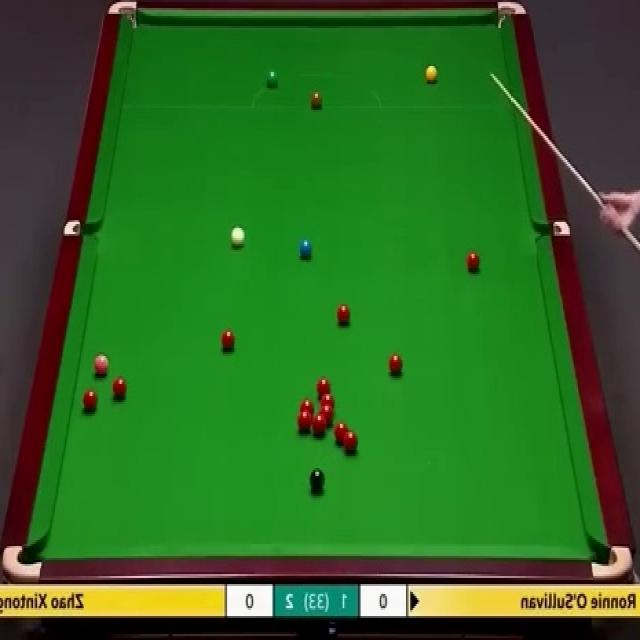black-ball: (309, 466, 325, 496)
blue-ball: (298, 237, 313, 258)
brown-ball: (310, 90, 323, 110)
green-ball: (266, 69, 279, 89)
pink-ball: (93, 352, 109, 378)
red-ball: (387, 352, 404, 379), (342, 431, 359, 455), (332, 423, 348, 448), (110, 376, 126, 401), (81, 389, 98, 412), (297, 410, 312, 435), (220, 328, 235, 352), (336, 304, 351, 326), (466, 251, 480, 274), (312, 413, 326, 435), (316, 377, 332, 394), (320, 406, 334, 424), (320, 392, 334, 408), (300, 401, 314, 414)
white-ball: (230, 224, 246, 248)
yellow-ball: (424, 65, 437, 86)
